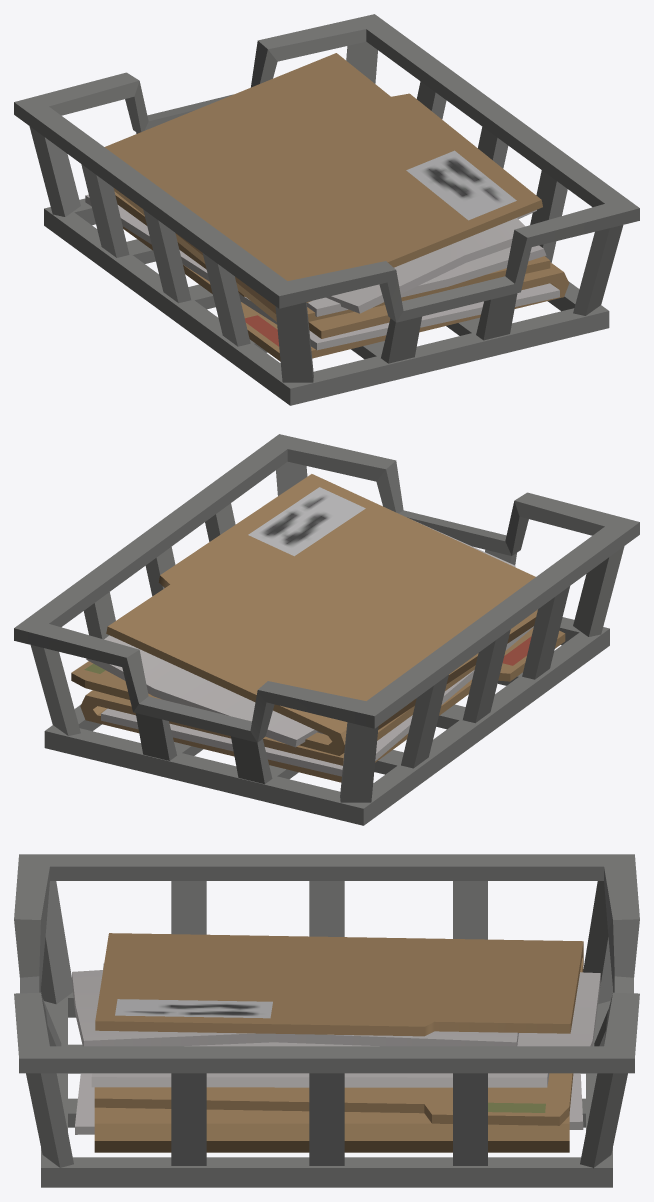
Rendered from SM_Prop_FolderTray_01.glb.
3 views of the same model, one above another, from view 1: azimuth 30°, elevation 25°; view 2: azimuth 150°, elevation 25°; view 3: azimuth 270°, elevation 25° (orthographic). The views are drawn at different scales.
Parts seen in each view (by area): view 1: SM_Prop_FolderTray_01; view 2: SM_Prop_FolderTray_01; view 3: SM_Prop_FolderTray_01.
Boxes of the visible parts, left/top/right/bottom form: SM_Prop_FolderTray_01: left=14, top=14, right=639, bottom=405; SM_Prop_FolderTray_01: left=14, top=434, right=639, bottom=825; SM_Prop_FolderTray_01: left=14, top=854, right=639, bottom=1187.
Size of the model in its own units: 0.3892 by 0.1257 by 0.5039.
Materials: 1 (1 with a texture image).
